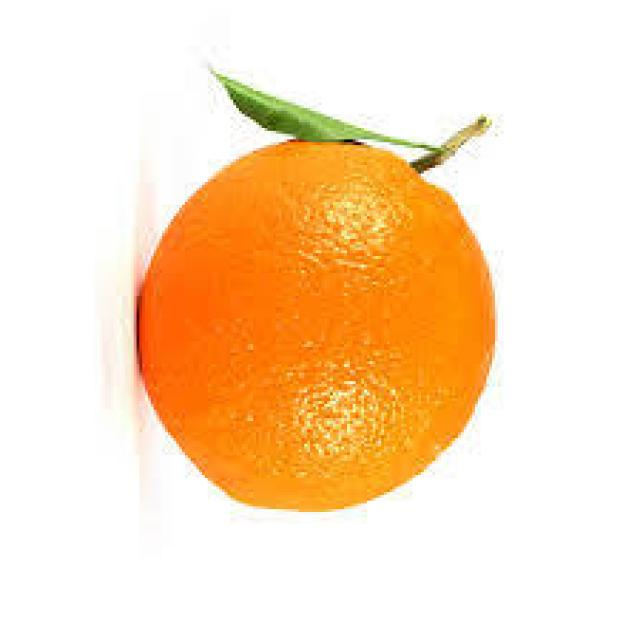Good_Orange: (134, 139, 498, 515)
